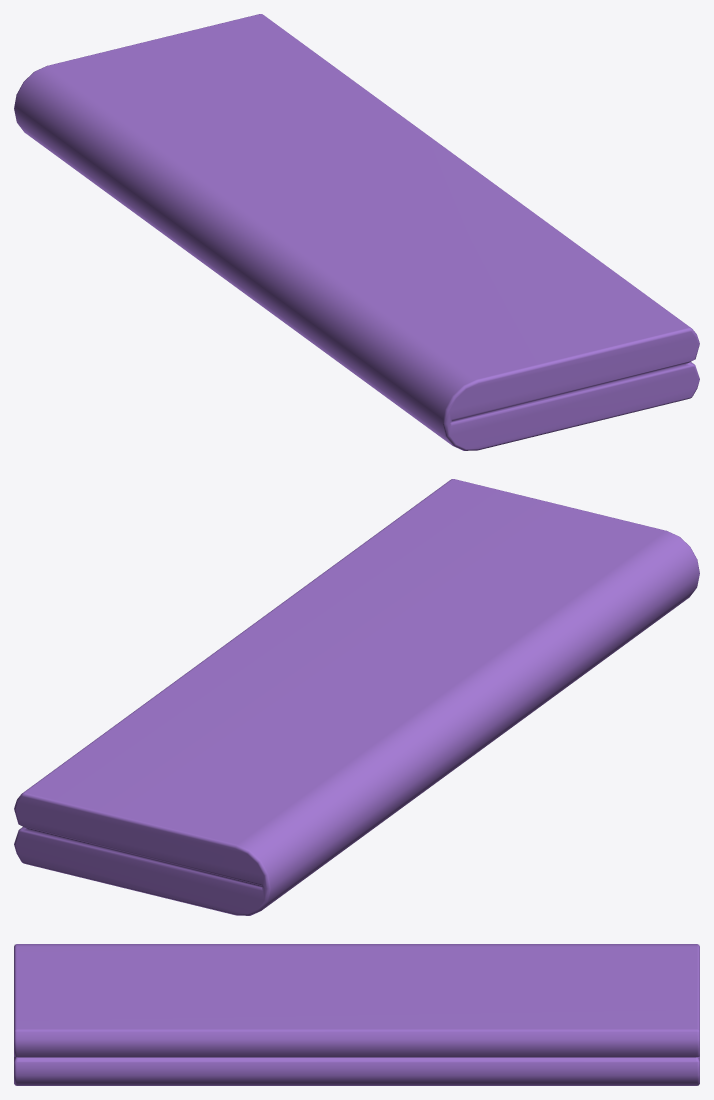
File: Public_19_Fabric_3.glb
3 renders of one model, top to bottom at view 1: azimuth 30°, elevation 25°; view 2: azimuth 150°, elevation 25°; view 3: azimuth 270°, elevation 25°, orthographic. The views are drawn at different scales.
Visible parts, largest first — view 1: Public_19_Fabric_3; view 2: Public_19_Fabric_3; view 3: Public_19_Fabric_3.
Boxes of the visible parts, x1=… form: Public_19_Fabric_3: x1=14, y1=14, x2=699, y2=450; Public_19_Fabric_3: x1=14, y1=479, x2=699, y2=915; Public_19_Fabric_3: x1=14, y1=944, x2=699, y2=1085.
Size of the model in its own units: 0.9385 by 0.2481 by 2.73.
1 material, 1 textured.
